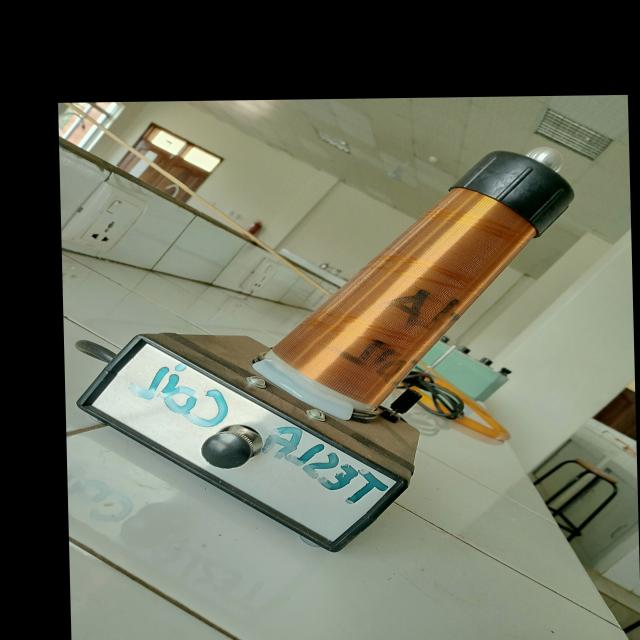Tesla Coil: (63, 131, 602, 556)
